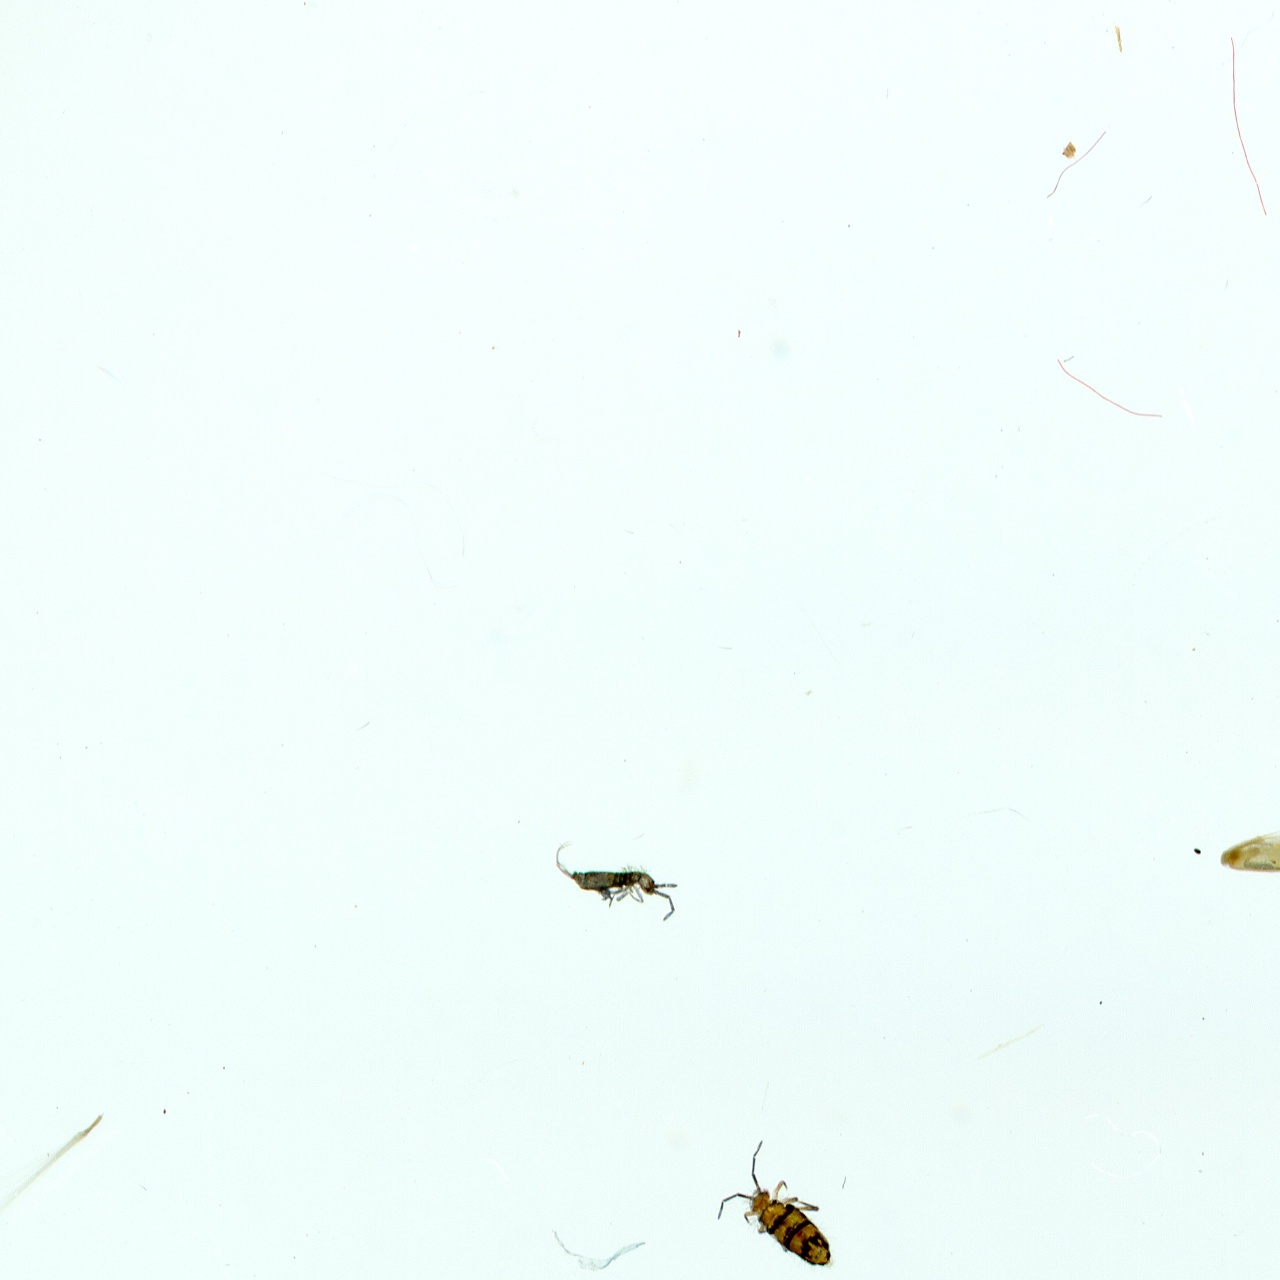arthropod: (719, 1138, 839, 1267), (544, 845, 678, 917)
